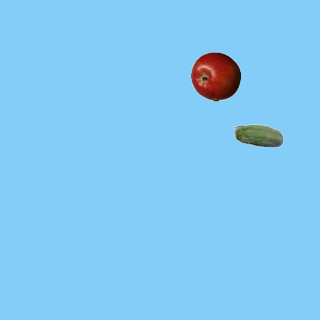Apple Braeburn: (190, 51, 240, 101)
Corn Husk: (233, 112, 283, 162)
